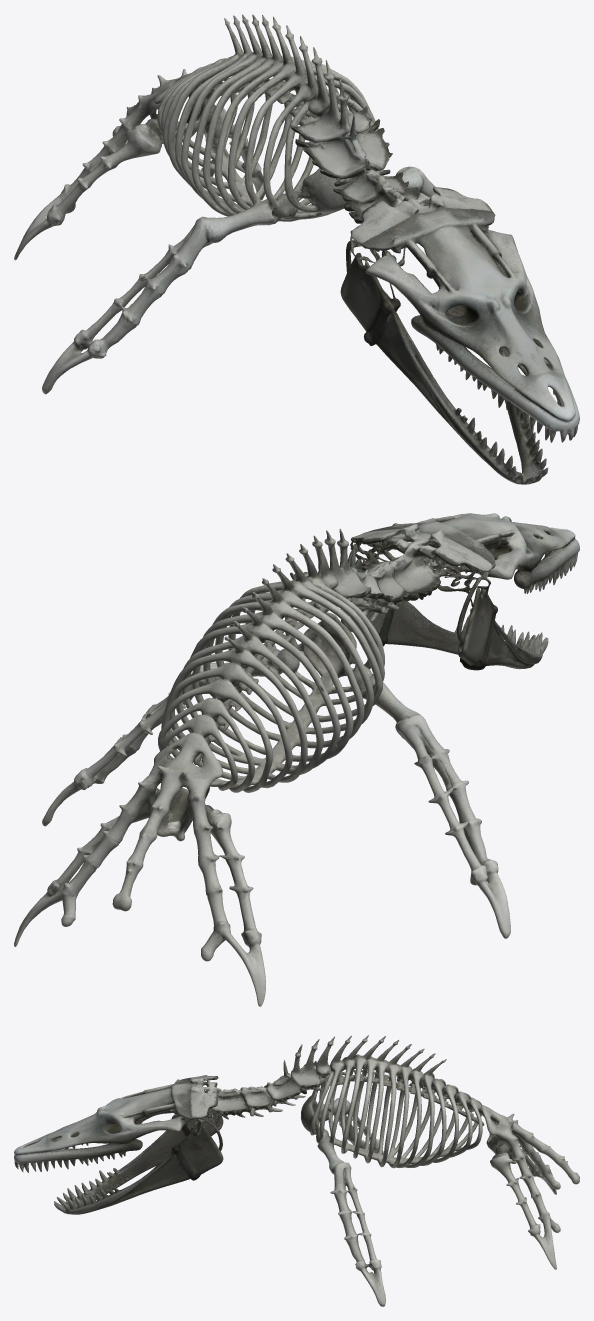
3 renders of one model, top to bottom at view 1: azimuth 30°, elevation 25°; view 2: azimuth 150°, elevation 25°; view 3: azimuth 270°, elevation 25°, orthographic. The views are drawn at different scales.
Parts seen in each view (by area): view 1: Mesh_0; view 2: Mesh_0; view 3: Mesh_0.
Boxes of the visible parts, left/top/right/bottom form: Mesh_0: left=14, top=14, right=579, bottom=484; Mesh_0: left=14, top=513, right=579, bottom=1006; Mesh_0: left=14, top=1035, right=579, bottom=1306.
Size of the model in its own units: 1.13 by 0.7435 by 1.9.
1 material, 1 textured.
